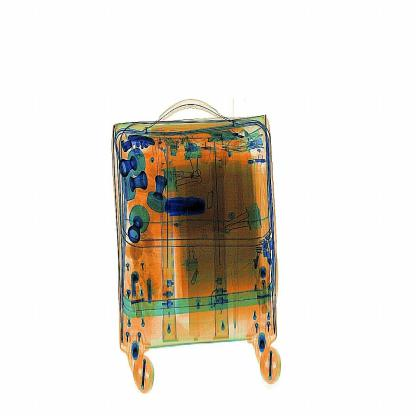scissors: (160, 192, 214, 222)
